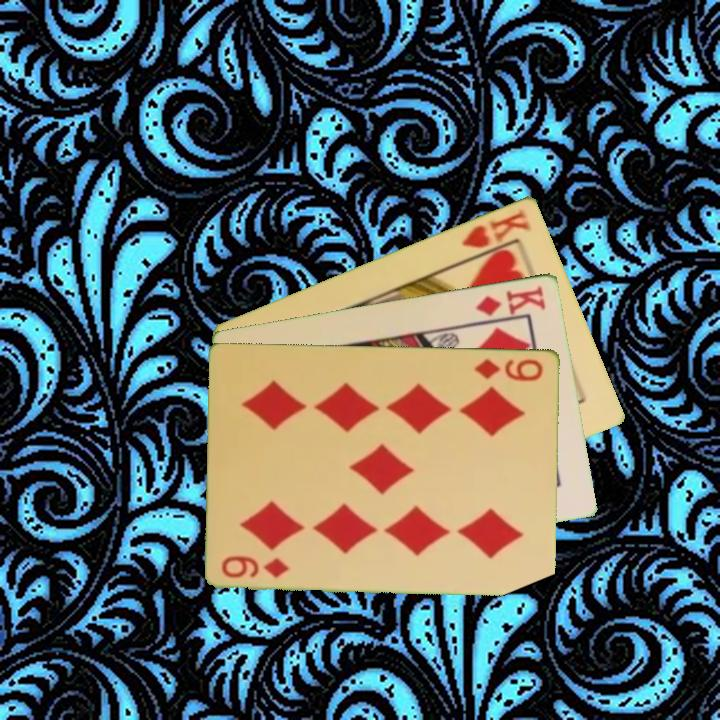9d: (472, 355, 546, 384), (219, 552, 293, 581)
Kd: (473, 281, 549, 319)
Kh: (459, 204, 533, 262)
